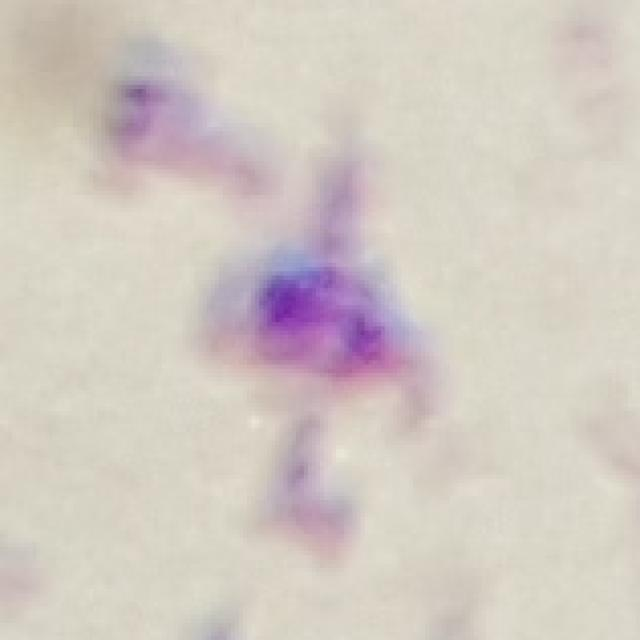non-sperm: (207, 160, 444, 488)
